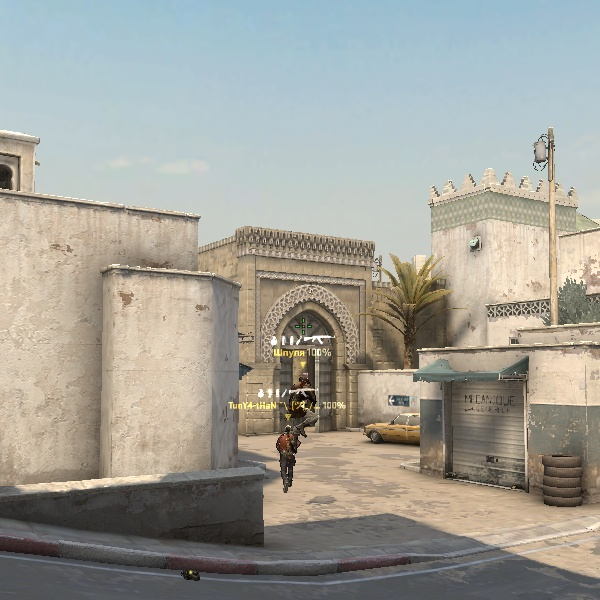t_body: (268, 423, 311, 494), (283, 370, 324, 435)
t_head: (296, 370, 313, 385), (280, 423, 295, 437)
